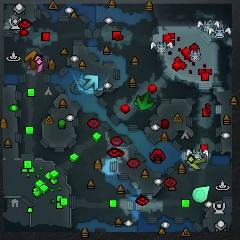p2: (193, 185, 210, 203)
x1: (28, 62, 43, 73)
x2: (187, 153, 206, 169)
x3: (83, 74, 99, 91)
x4: (137, 93, 154, 110)
x5: (25, 50, 39, 69)
